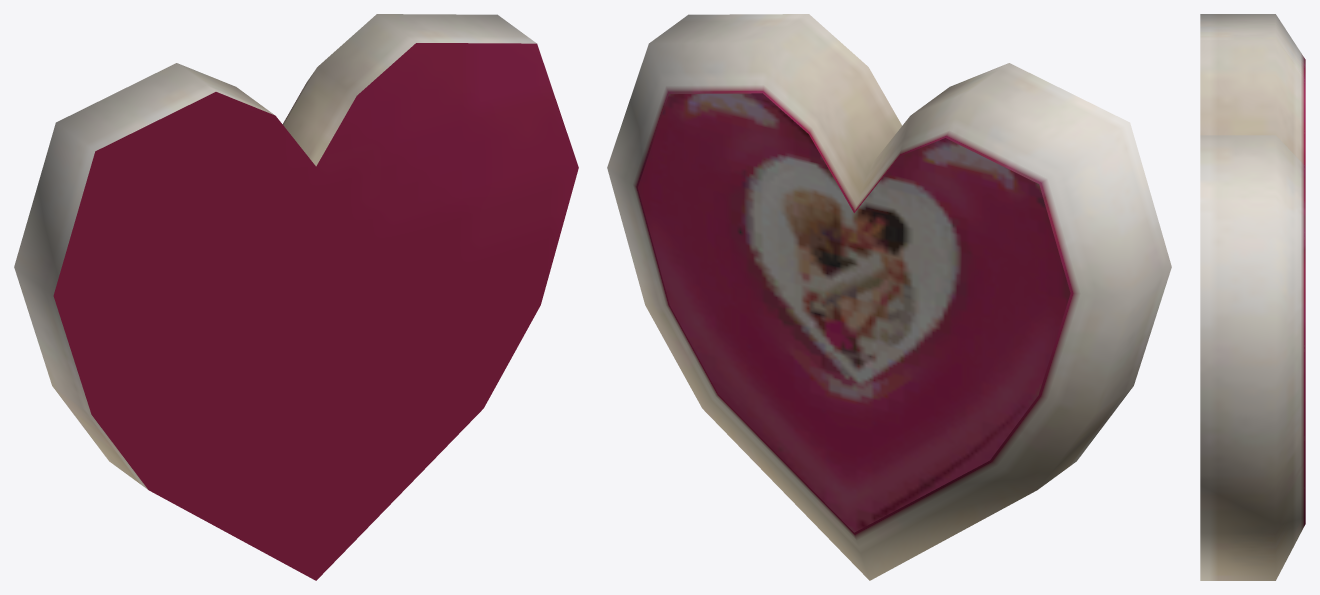
The model's file is furni_0200134.FBX.
3 renders of one model, left to right at view 1: azimuth 30°, elevation 25°; view 2: azimuth 150°, elevation 25°; view 3: azimuth 270°, elevation 25°, orthographic. The views are drawn at different scales.
Parts seen in each view (by area): view 1: furni_0200134; view 2: furni_0200134; view 3: furni_0200134.
Boxes of the visible parts, bbox=[...] form: furni_0200134: bbox=[14, 14, 578, 580]; furni_0200134: bbox=[607, 14, 1171, 580]; furni_0200134: bbox=[1200, 14, 1305, 580].
Size of the model in its own units: 53.73 by 50.2 by 9.74.
Materials: 1 (1 with a texture image).
